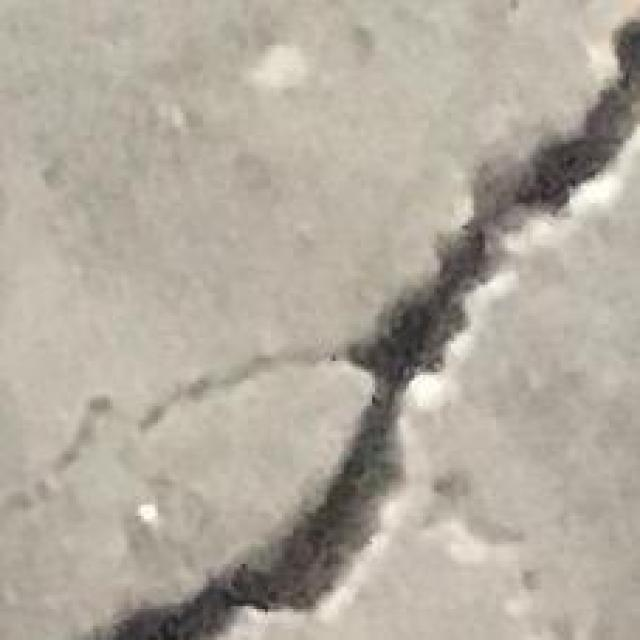branched cracks: (0, 17, 639, 639)
